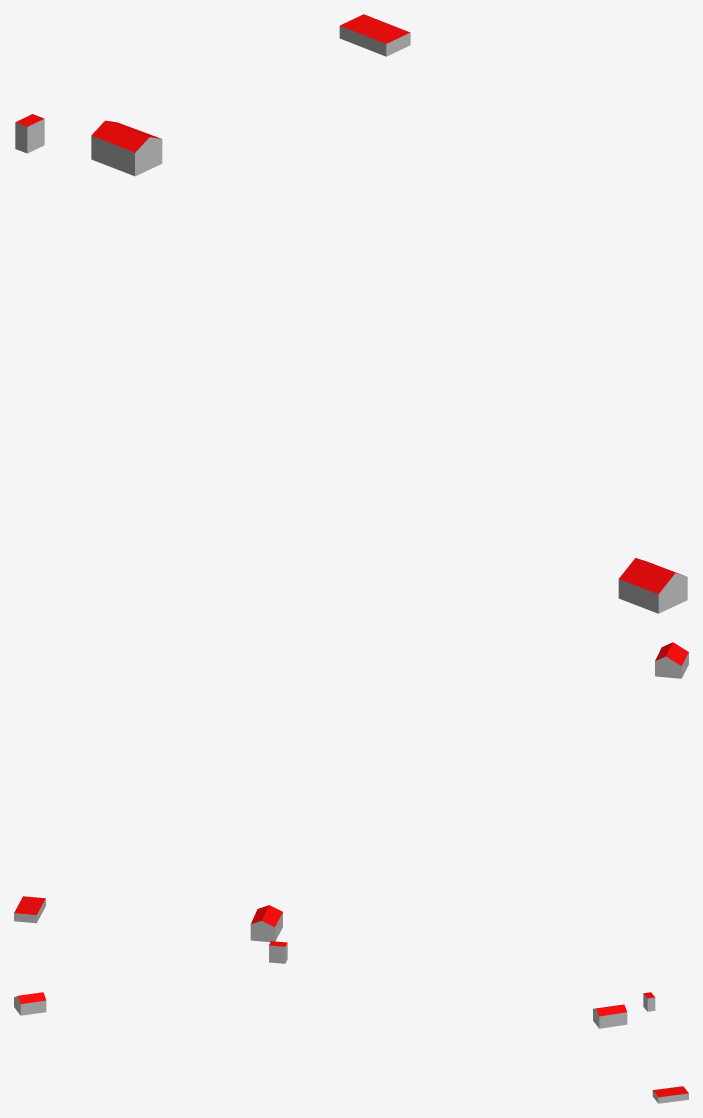
The picture shows the model from 3 angles, top to bottom: view 1: azimuth 30°, elevation 25°; view 2: azimuth 150°, elevation 25°; view 3: azimuth 270°, elevation 25°; orthographic projection. The views are drawn at different scales.
Size of the model in its own units: 48.36 by 3.7 by 138.
